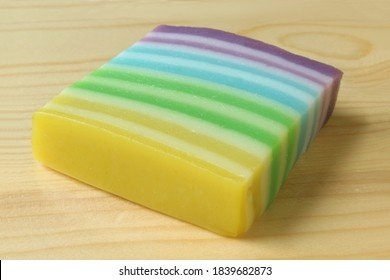kue_lapis_pelangi: (33, 22, 346, 240)
